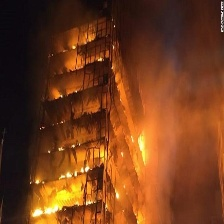fire: (24, 123, 148, 217)
smoke: (146, 16, 224, 208)
